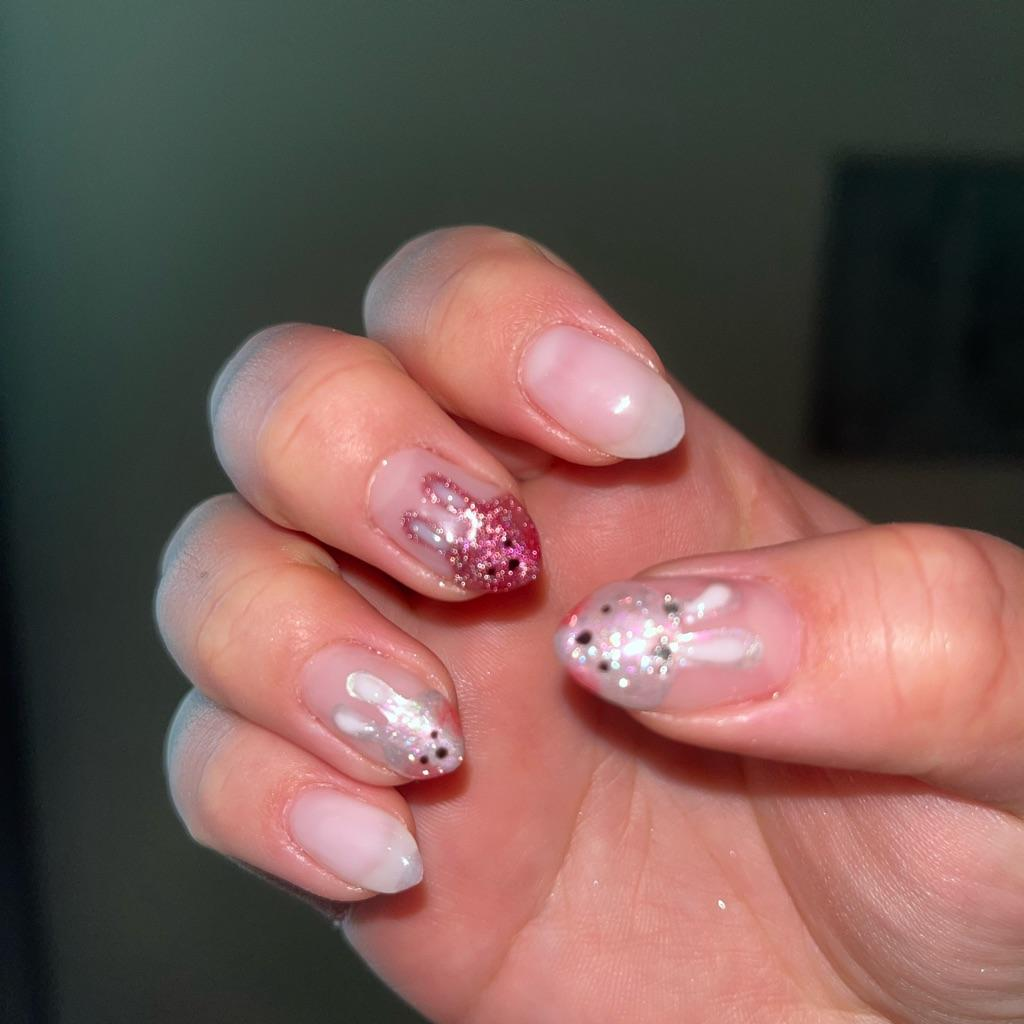nail: (552, 570, 801, 714), (363, 444, 542, 600), (296, 638, 465, 782), (514, 321, 686, 461), (284, 783, 424, 896)
